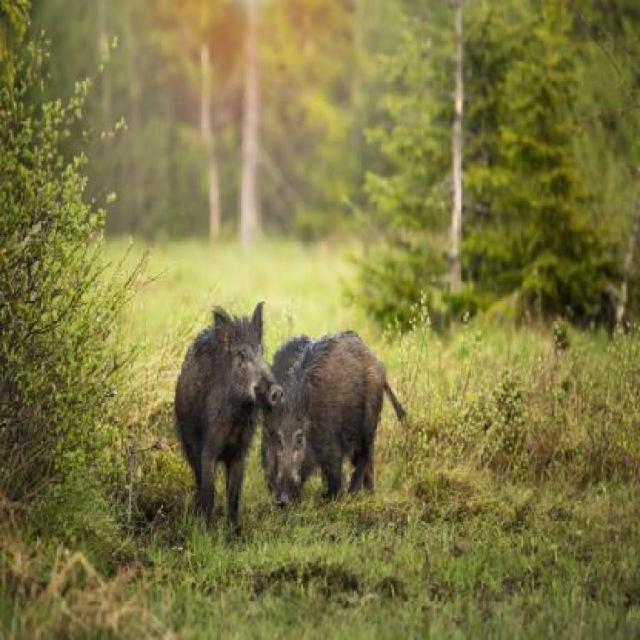wildboar: (262, 323, 415, 517), (172, 293, 288, 512), (254, 328, 324, 517)
